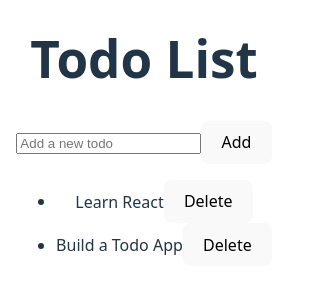
Test case: TodoList Component › adds a new todo
Type "New Task" into the field with placeholder "Add a new todo" at (109, 144), box [16,133,201,154]
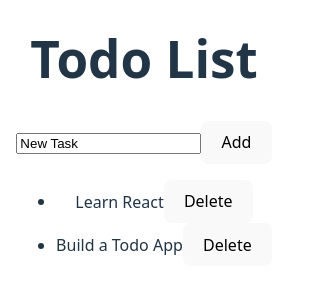
Click the button "Add" at (236, 142), box [201,121,272,164]
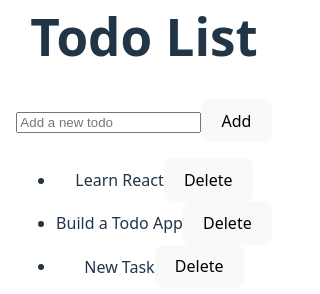
Now the list item "New Task" is shown, box [84,255,155,277]
Now the field with placeholder "Add a new todo" is empty, box [16,112,201,133]
